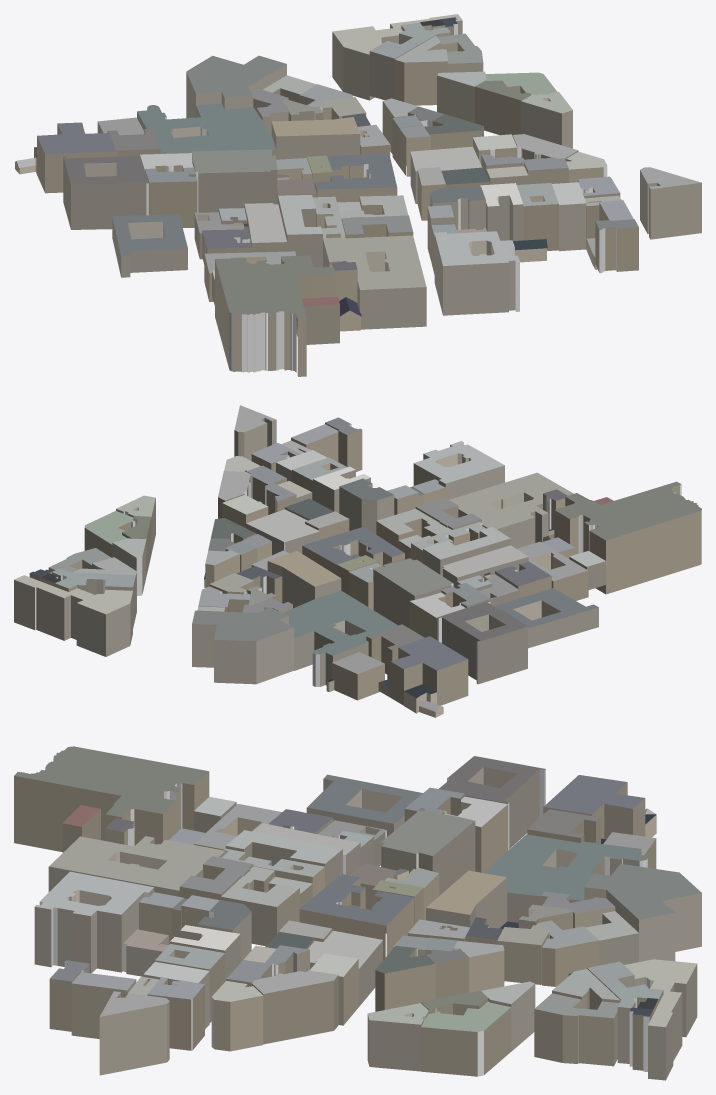
3 renders of one model, top to bottom at view 1: azimuth 30°, elevation 25°; view 2: azimuth 150°, elevation 25°; view 3: azimuth 270°, elevation 25°, orthographic. The views are drawn at different scales.
Parts seen in each view (by area): view 1: tuile; view 2: tuile; view 3: tuile.
Part boxes in pixels (x1,y1,x2,y2): tuile: [15, 14, 701, 376]; tuile: [14, 405, 701, 717]; tuile: [14, 746, 701, 1080].
Size of the model in its own units: 271 by 32.66 by 285.
